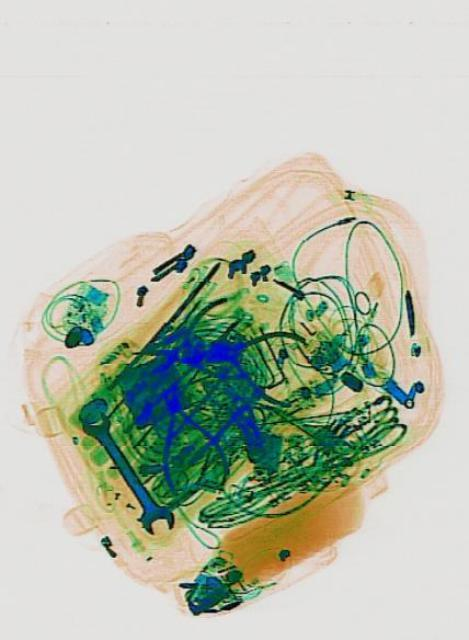Pliers: (139, 372, 230, 502), (201, 312, 306, 408), (151, 287, 242, 381)
Wrench: (74, 398, 175, 544)
